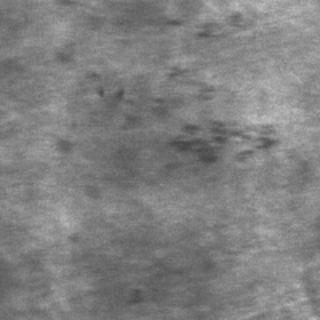rolled pit: (117, 66, 277, 162)
